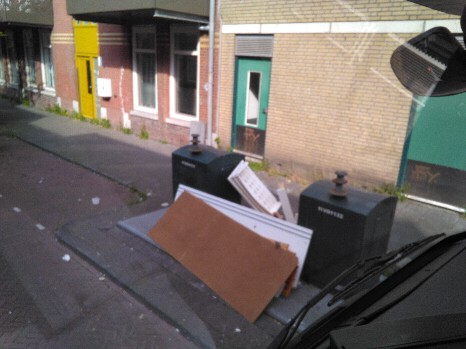Container: (307, 177, 371, 268), (174, 138, 232, 195)
Papier: (151, 197, 273, 303)
Rest: (247, 156, 296, 246)
